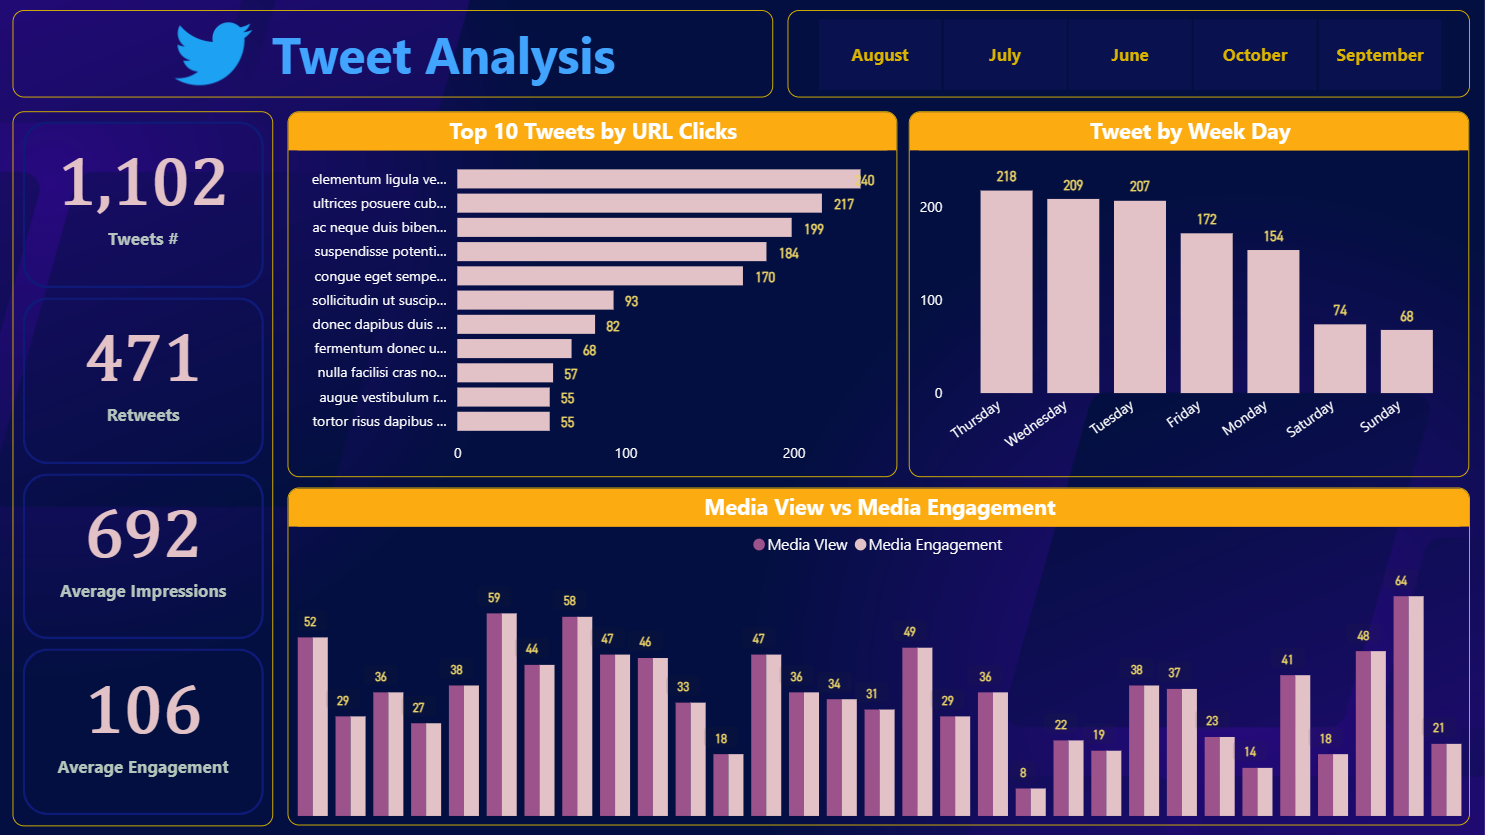

The page's visual inventory and layout, read from the dashboard file:
{"tool":"powerbi","page":{"name":"Landing Page","canvas":[1280,720],"ordinal":0},"visuals":[{"type":"cardVisual","fields":{"Data":["Count(SocialMedia.Tweet)","Sum(SocialMedia.Retweets)","Count(SocialMedia.Impressions)","Count(SocialMedia.Media Engagement)"]},"box":[15.5,95.2,223.7,614.1],"z":0},{"type":"barChart","title":"Top 10 Tweets by URL Clicks","fields":{"Category":["SocialMedia.Tweet"],"Y":["Sum(SocialMedia.URL Clicks)"]},"box":[251.1,95.2,523.6,314.2],"z":1000},{"type":"columnChart","title":"Tweet by Week Day","fields":{"Category":["SocialMedia.Day Name"],"Y":["CountNonNull(SocialMedia.Tweet)"]},"box":[785.5,95.2,482,314.2],"z":2000},{"type":"clusteredColumnChart","title":"Media View vs Media Engagement","fields":{"Category":["SocialMedia.Time.Variation.Date Hierarchy.Day"],"Y":["CountNonNull(SocialMedia.Media VIew)","CountNonNull(SocialMedia.Media Engagement)"]},"box":[251.1,418.9,1016.3,290.4],"z":3000},{"type":"textbox","box":[15.5,8.3,653.4,75],"z":4000},{"type":"slicer","fields":{"Values":["SocialMedia.Month Name"]},"box":[680.7,8.3,586.7,75],"z":5000},{"type":"image","box":[148.8,8.3,77.4,75],"z":6001}]}

Visuals, with their boxes in screenshot pixels (x1, y1, x2, y2), scaled from the page's 1280x720 canvas onto the 1485x835 screenshot:
cardVisual - Count(SocialMedia.Tweet) x Sum(SocialMedia.Retweets): (18,110,278,823)
"Top 10 Tweets by URL Clicks" barChart: (291,110,899,475)
"Tweet by Week Day" columnChart: (911,110,1470,475)
"Media View vs Media Engagement" clusteredColumnChart: (291,486,1470,823)
textbox: (18,10,776,97)
slicer - SocialMedia.Month Name: (790,10,1470,97)
image: (173,10,262,97)
